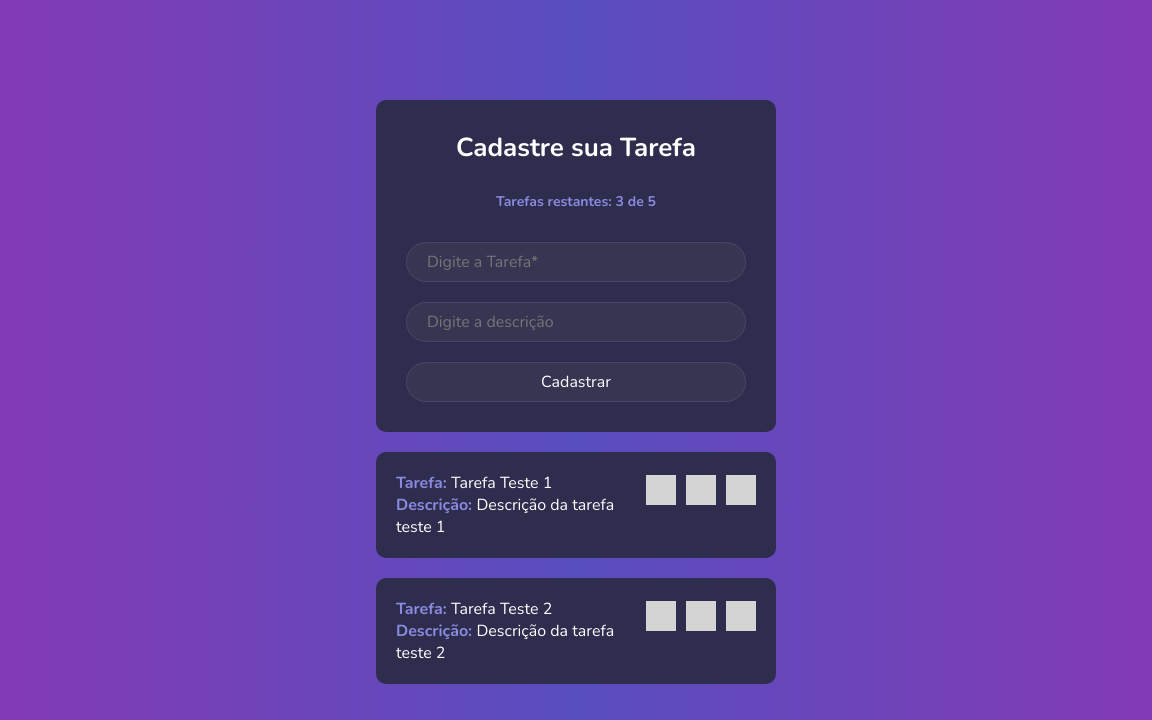
Test: Home Component › Validação de Formulário › deve exibir erro quando o nome da tarefa não é fornecido
Click the button "Cadastrar" at coordinates (576, 382), box [406,362,746,402]
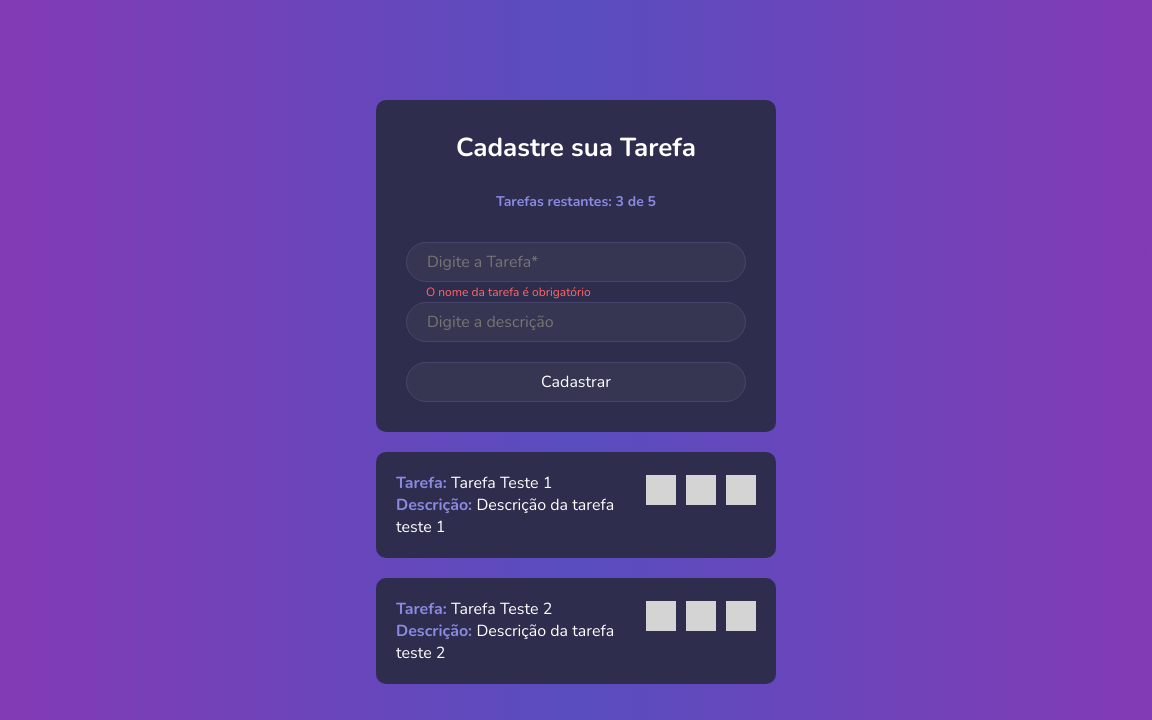
Expected: the text "O nome da tarefa é obrigatório" is shown, [426,284,591,300]
